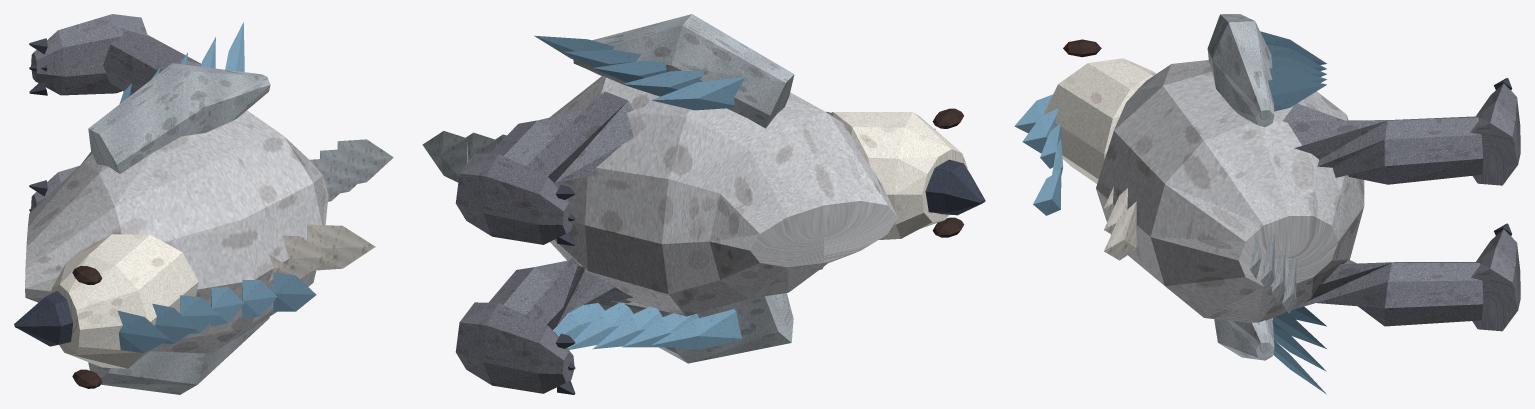
File: tufrino_blockout_v01.glb
The picture shows the model from 3 angles, left to right: view 1: azimuth 30°, elevation 25°; view 2: azimuth 150°, elevation 25°; view 3: azimuth 270°, elevation 25°; orthographic projection. The views are drawn at different scales.
Parts seen in each view (by area): view 1: tufrino; view 2: tufrino; view 3: tufrino.
Part boxes in pixels (<box>): tufrino: <box>14,14,393,394</box>; tufrino: <box>422,14,985,394</box>; tufrino: <box>1014,14,1520,394</box>.
Bounding box in the file's own units: 1.39 × 0.954 × 1.3.
Materials: 1 (1 with a texture image).
